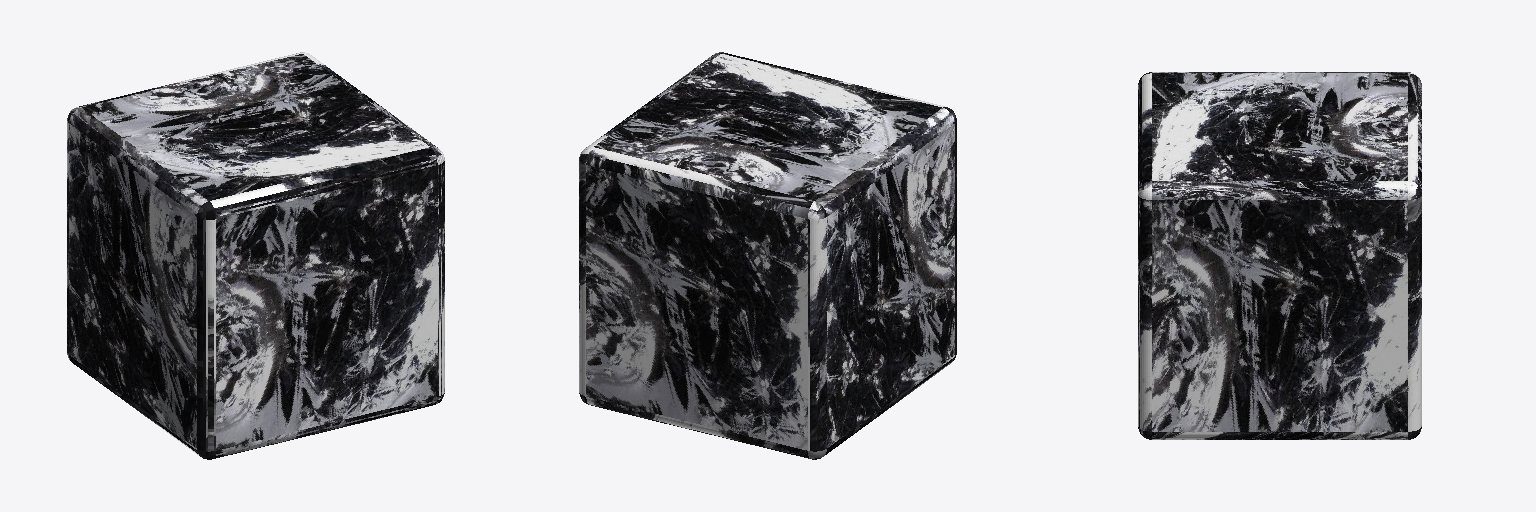
3 renders of one model, left to right at view 1: azimuth 30°, elevation 25°; view 2: azimuth 150°, elevation 25°; view 3: azimuth 270°, elevation 25°, orthographic.
Visible parts, largest first — view 1: Cube; view 2: Cube; view 3: Cube.
Part boxes in pixels (x1,y1,x2,y2): Cube: (67,52,444,459); Cube: (579,52,956,459); Cube: (1138,72,1421,439).
Size of the model in its own units: 2 by 2 by 2.
Materials: 1 (1 with a texture image).